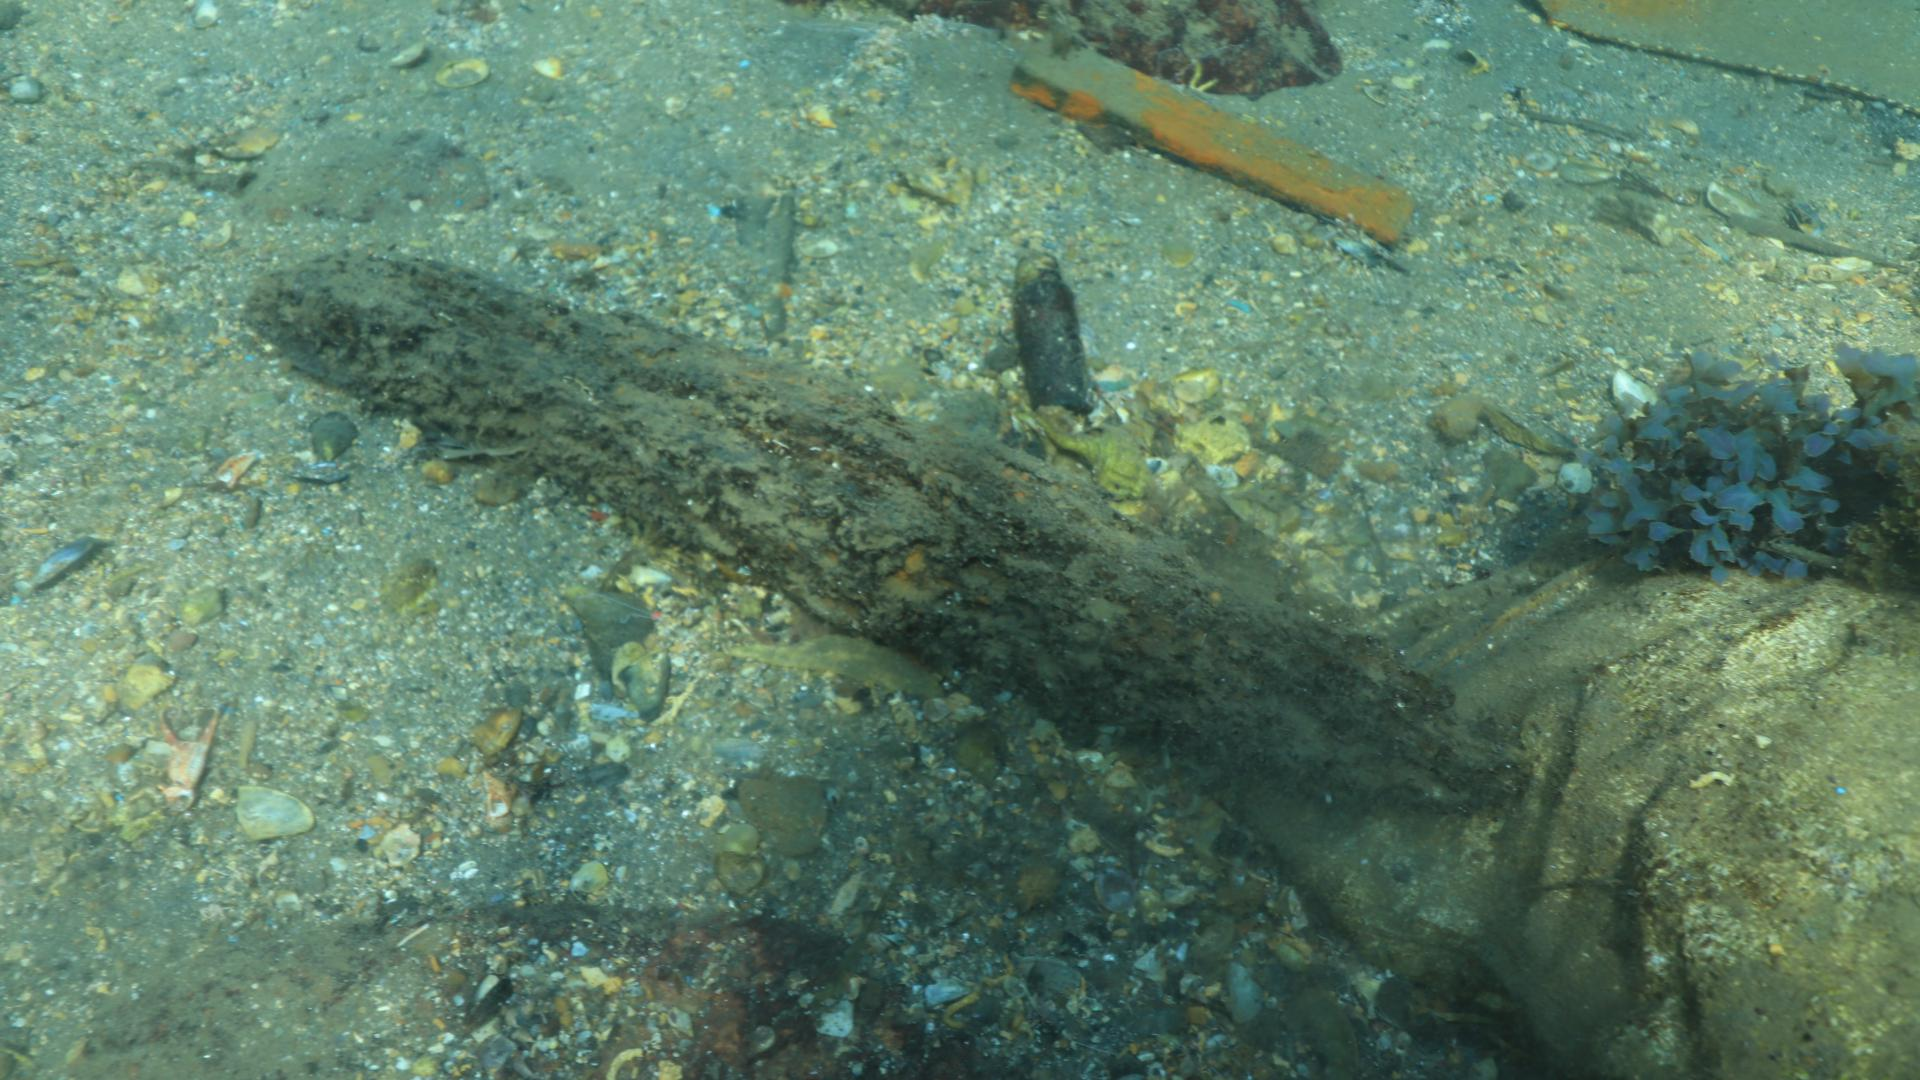wood: (239, 243, 1536, 815), (1007, 49, 1422, 243)
